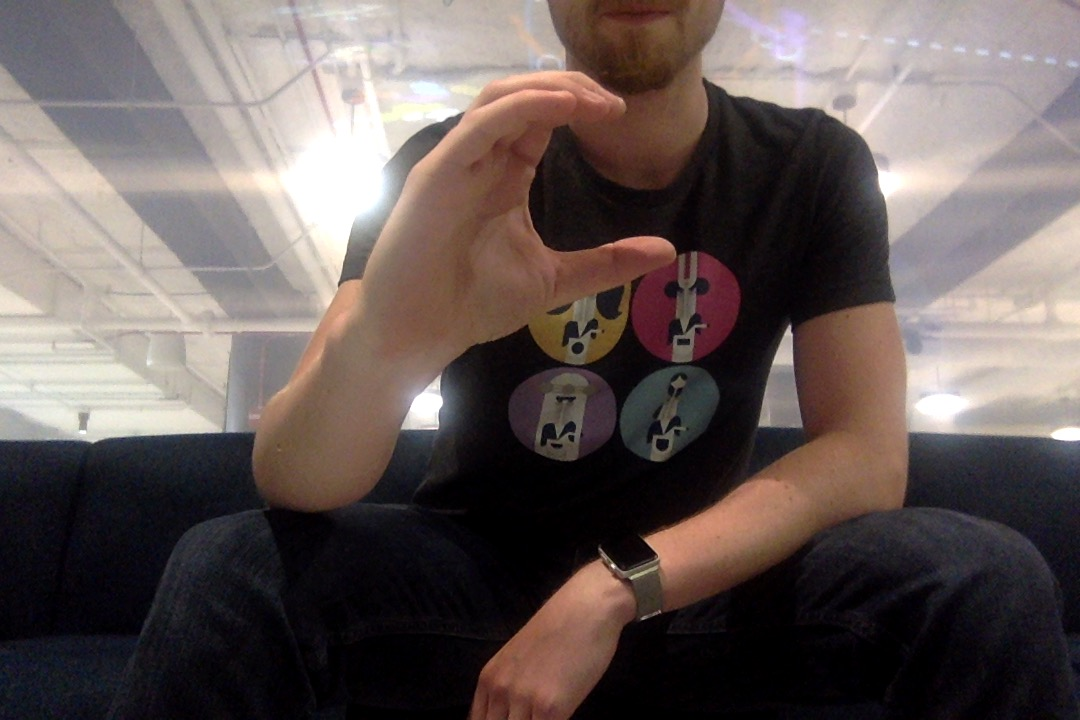c: (383, 67, 680, 360)
